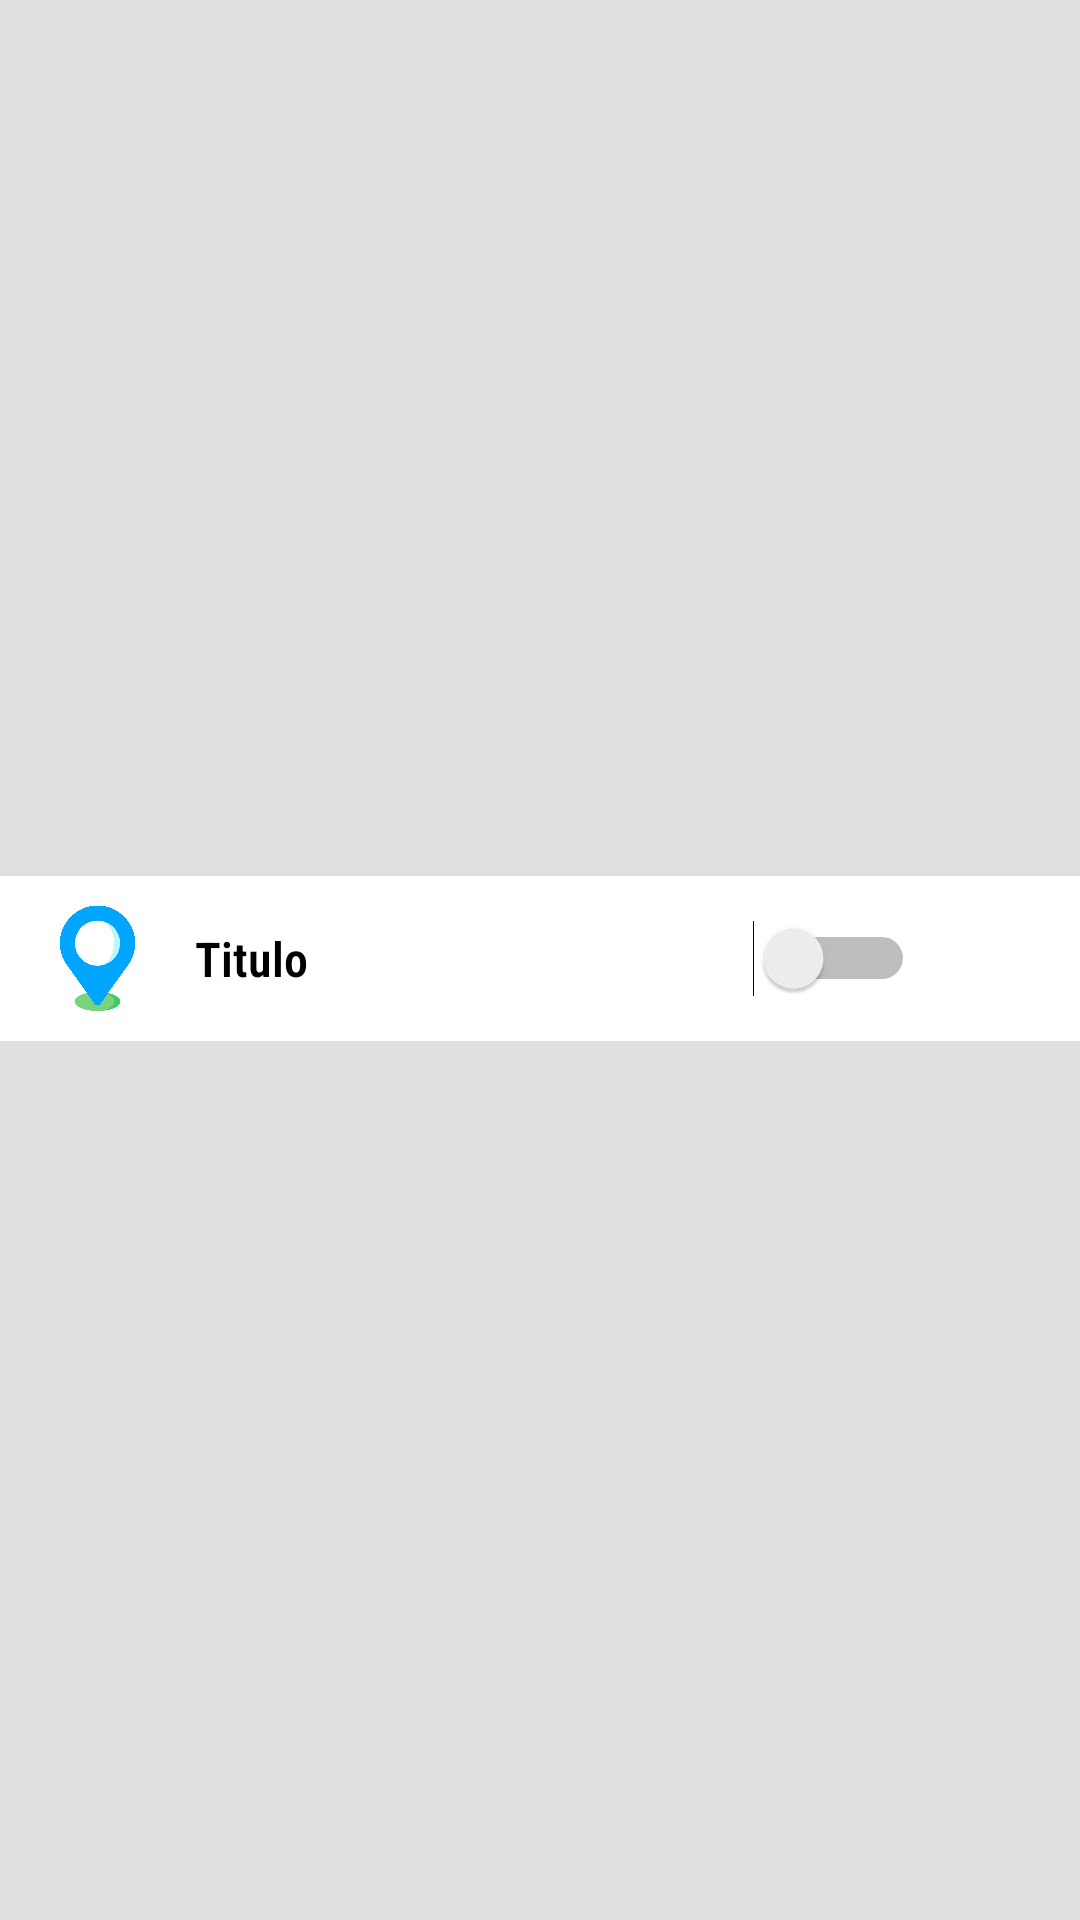

Where icons sit on this 1080px x 1920px app screen, as box=[x1, y1, x2, y2]:
ubicacion: box=[60, 906, 135, 1011]
